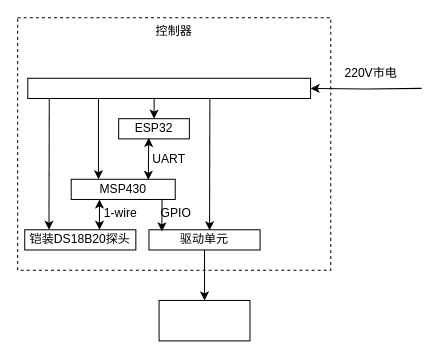
This 447x359 diagram has some shape labels left out. Here are the shapes that lost their labels. From the top down, the box of each, then its label:
(27, 77, 311, 98): 电源模块
(158, 299, 250, 341): 电热管
